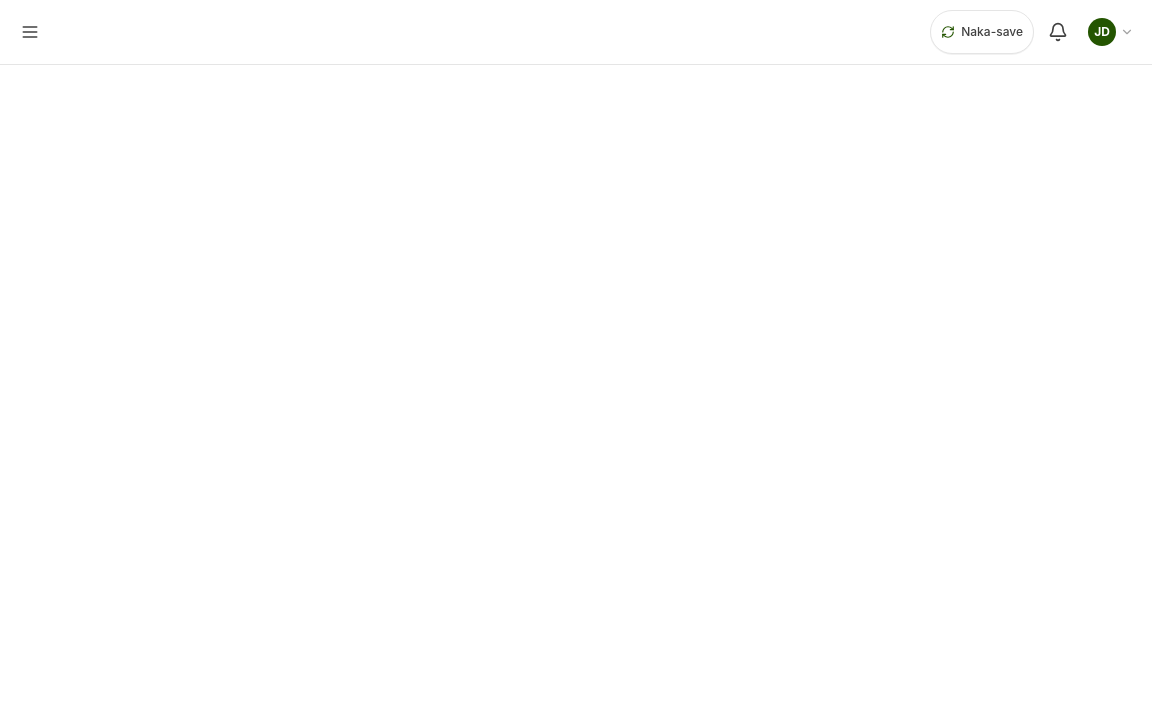
Test: TopBar Offline Data Status & Sync handling › opens the offline data popover when single-clicked
Click the button "Naka-save": point(982, 32) [930,10,1034,54]
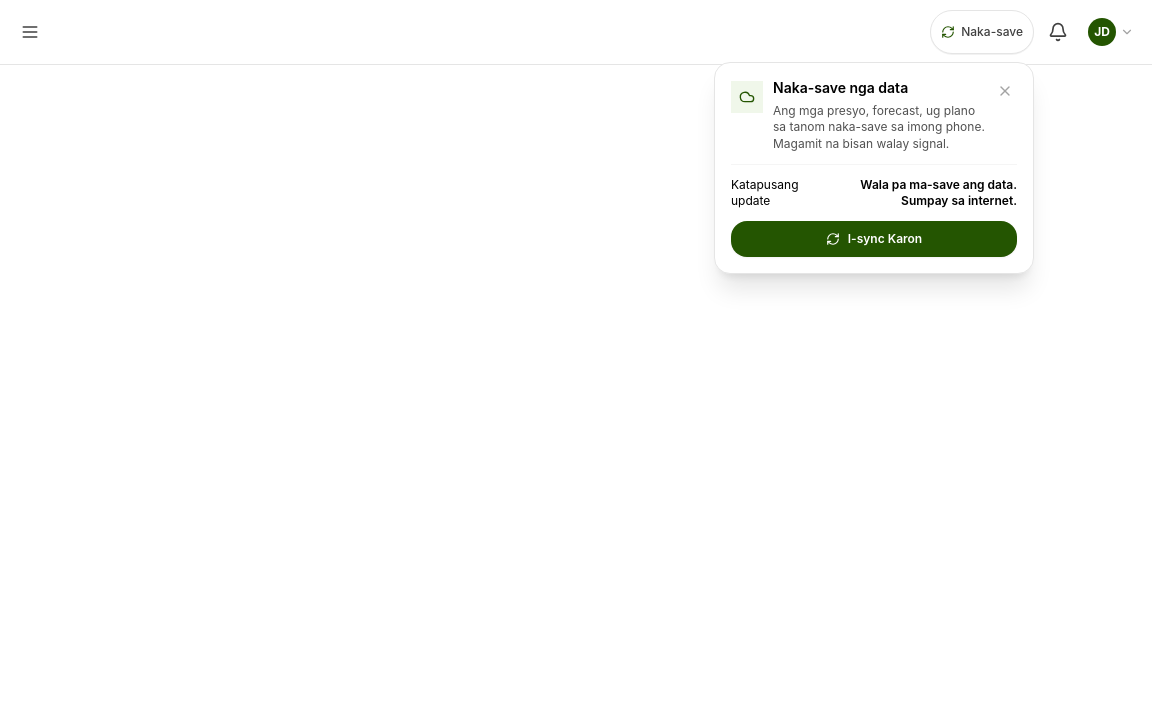
Now the dialog "Naka-save nga data" is shown, box [714,62,1034,274]
Now the button "I-sync Karon" is shown, box [731,221,1017,257]
